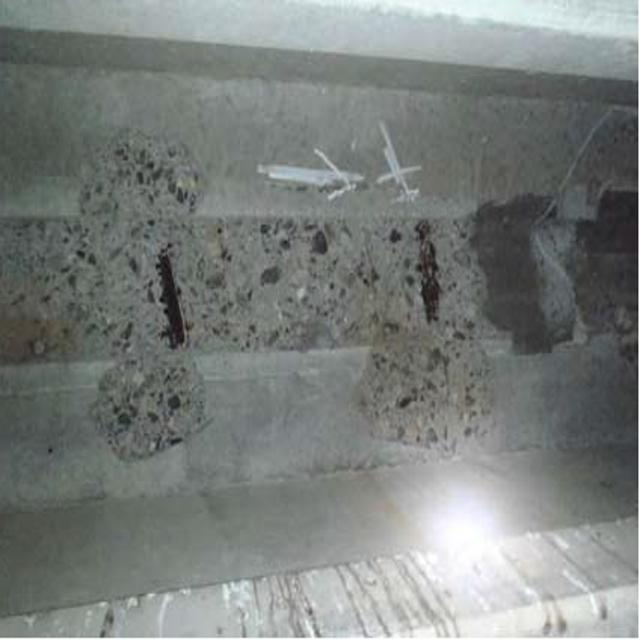spalling: (14, 147, 497, 473)
